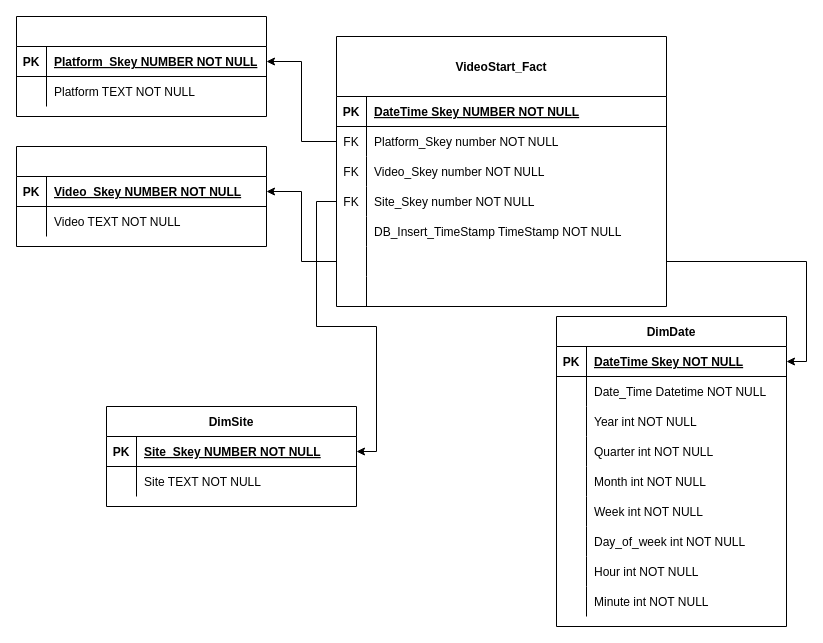
This 823x643 diagram has some shape labels left out. Each missing label, with the box of its shape:
DimPlatform: (16, 16, 266, 116)
DimVideo: (16, 146, 266, 246)
